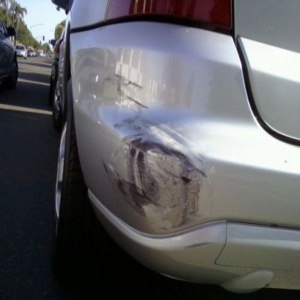bonnet: (81, 24, 194, 119)
bumper: (63, 122, 300, 292)
